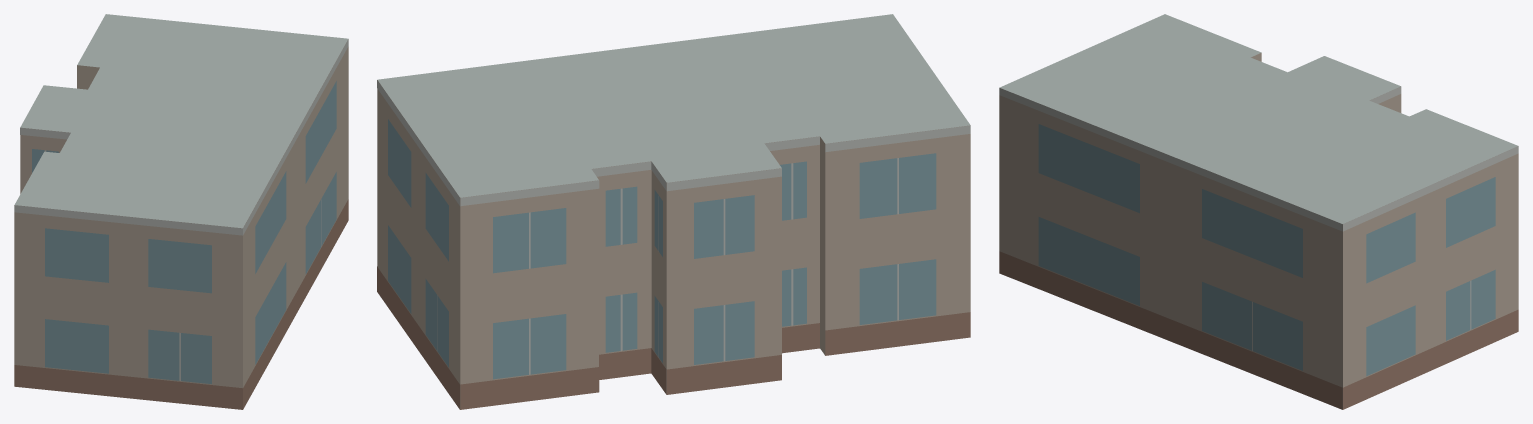
File: survey-upis-32810875.glb
3 views of the same model, side by side, from view 1: azimuth 30°, elevation 25°; view 2: azimuth 150°, elevation 25°; view 3: azimuth 270°, elevation 25° (orthographic). The views are drawn at different scales.
Visible parts, largest first — view 1: survey-upis-32810875.tmp; view 2: survey-upis-32810875.tmp; view 3: survey-upis-32810875.tmp.
Boxes of the visible parts, box(x1,y1,x2,y2) form: survey-upis-32810875.tmp: box(14, 14, 348, 409); survey-upis-32810875.tmp: box(377, 14, 970, 409); survey-upis-32810875.tmp: box(999, 14, 1518, 409).
Bounding box in the file's own units: 14.82 × 6.1 × 15.47.
